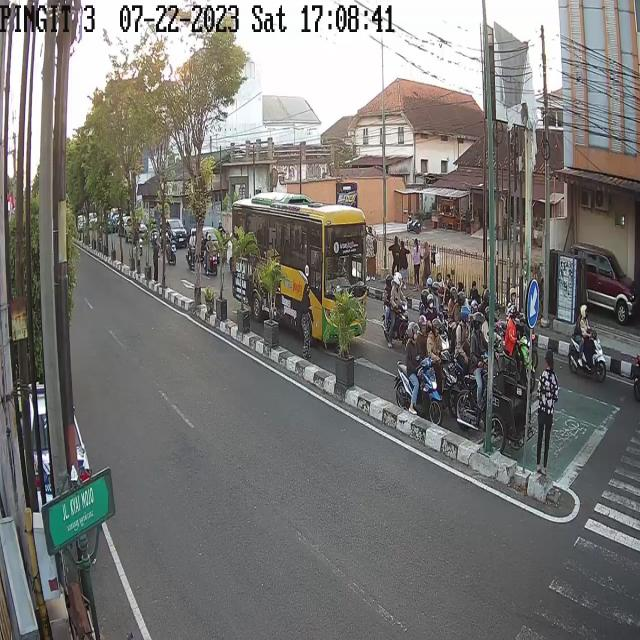bus: (232, 192, 368, 346)
car: (572, 245, 636, 328), (123, 215, 147, 243), (167, 220, 188, 247)
motorcycle: (397, 324, 441, 430), (565, 301, 607, 383), (502, 304, 537, 384), (382, 270, 410, 344), (204, 228, 218, 278), (187, 227, 201, 271), (166, 227, 178, 266)
